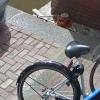bicycles: (15, 40, 100, 99)
